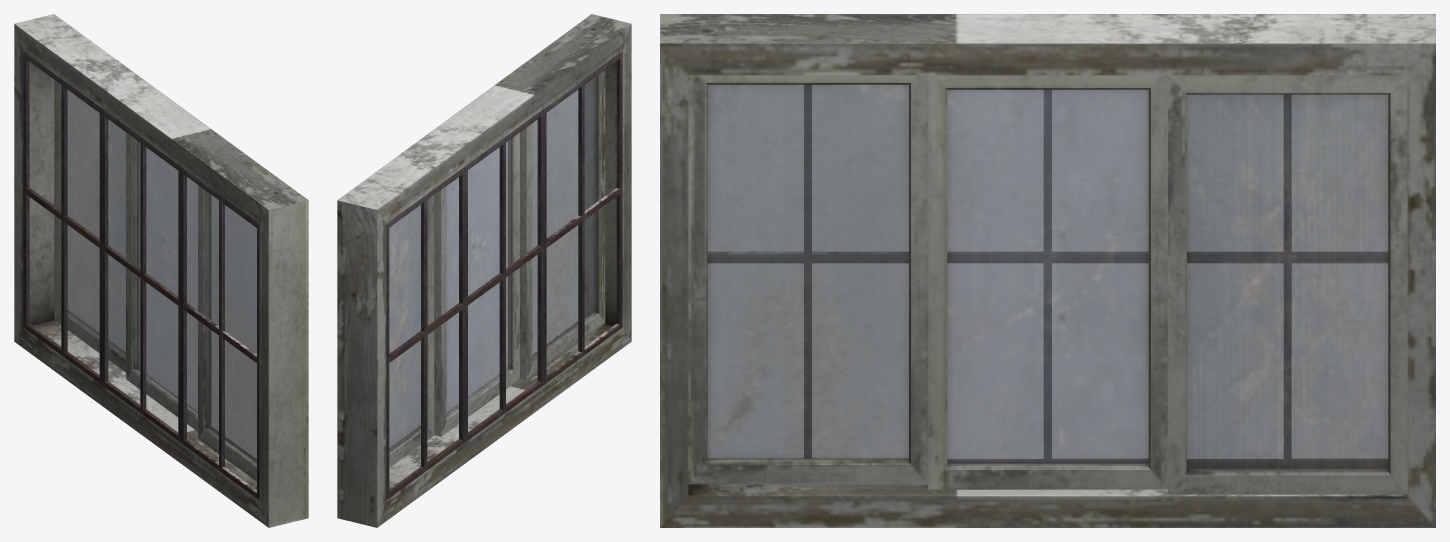
Rendered from WindowSet_L.FBX.
3 renders of one model, left to right at view 1: azimuth 30°, elevation 25°; view 2: azimuth 150°, elevation 25°; view 3: azimuth 270°, elevation 25°, orthographic. The views are drawn at different scales.
Visible parts, largest first — view 1: WindowFrame_L, Window_03_L (×2), Grill_L, Window_02_L; view 2: WindowFrame_L, Window_03_L (×2), Grill_L, Window_02_L; view 3: Window_03_L (×2), WindowFrame_L, Window_02_L, Grill_L.
Boxes of the visible parts, x1=… form: WindowFrame_L: x1=14, y1=14, x2=308, y2=527; Window_03_L (×2): x1=54, y1=80, x2=256, y2=481; Grill_L: x1=23, y1=51, x2=259, y2=500; Window_02_L: x1=126, y1=132, x2=211, y2=431; WindowFrame_L: x1=337, y1=14, x2=631, y2=527; Window_03_L (×2): x1=389, y1=70, x2=605, y2=467; Grill_L: x1=386, y1=51, x2=622, y2=500; Window_02_L: x1=434, y1=132, x2=519, y2=436; Window_03_L (×2): x1=688, y1=75, x2=1407, y2=494; WindowFrame_L: x1=660, y1=14, x2=1435, y2=527; Window_02_L: x1=928, y1=75, x2=1167, y2=489; Grill_L: x1=708, y1=85, x2=1387, y2=467.
Bounding box in the file's own units: 22.67 × 172 × 250.
